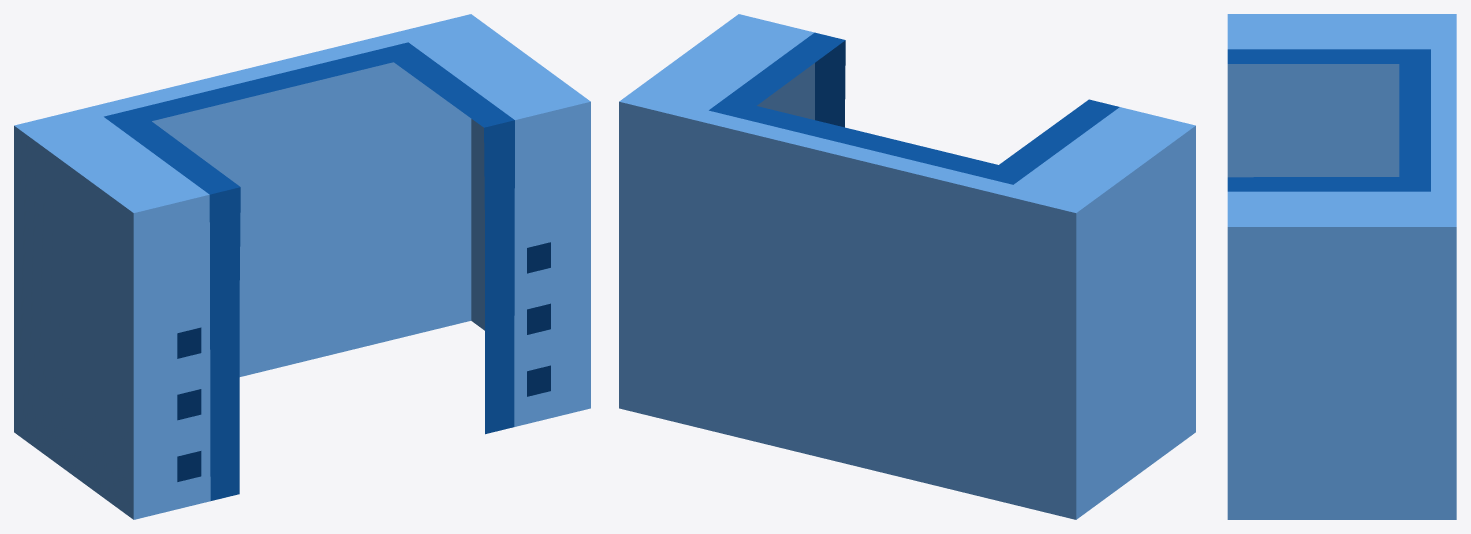
Rendered from Vest 02.FBX.
3 views of the same model, side by side, from view 1: azimuth 30°, elevation 25°; view 2: azimuth 150°, elevation 25°; view 3: azimuth 270°, elevation 25° (orthographic). The views are drawn at different scales.
Parts seen in each view (by area): view 1: Vest 02; view 2: Vest 02; view 3: Vest 02.
Part boxes in pixels (x1,y1,x2,y2): Vest 02: [14, 14, 590, 519]; Vest 02: [619, 14, 1195, 519]; Vest 02: [1227, 14, 1456, 519].
Bounding box in the file's own units: 48.43 × 31.05 × 22.3.
Materials: 1 (1 with a texture image).
